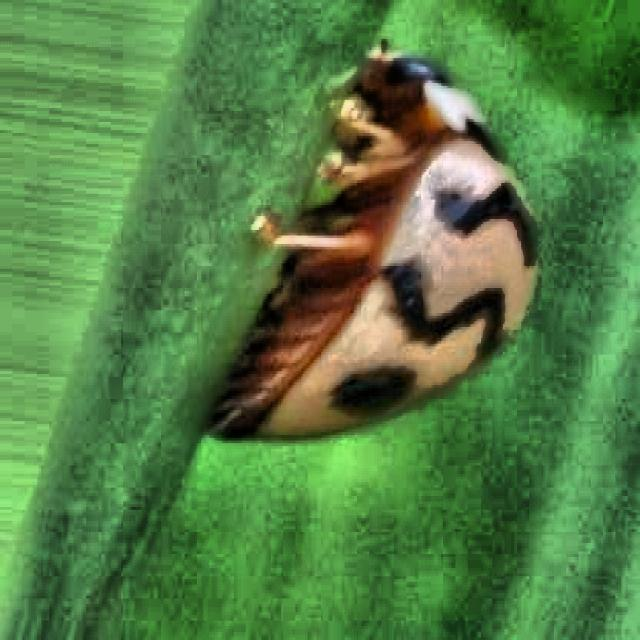Asian-Lady-beetle: (205, 8, 640, 582)
